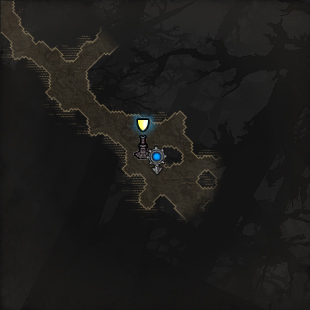ShieldPylon: (135, 115, 152, 159)
